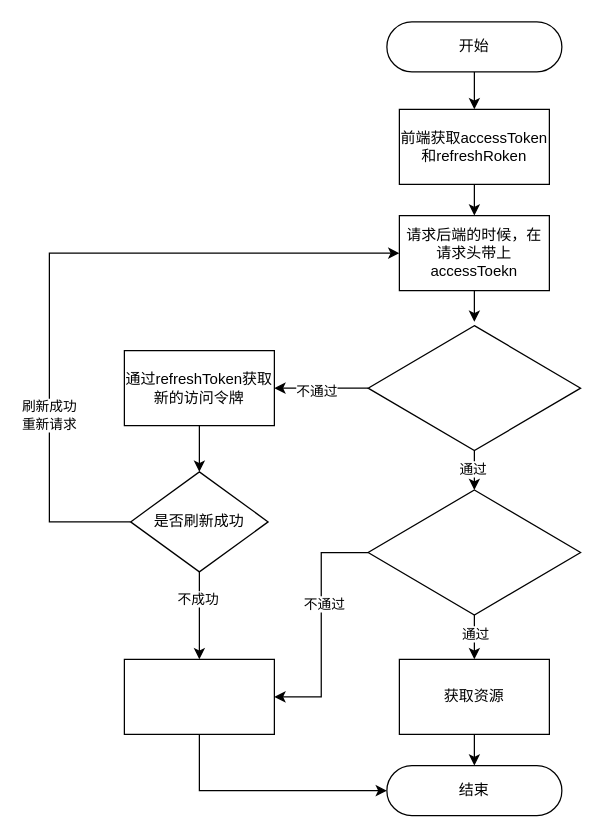
Image size: 603x838. Some labels were removed from this diagram. Each missing label, with the centre of its shape:
"判断是否有该资源的权限" goes at (x=474, y=552).
"后端校验Token是否有效" goes at (x=474, y=387).
"报错" goes at (x=198, y=696).
